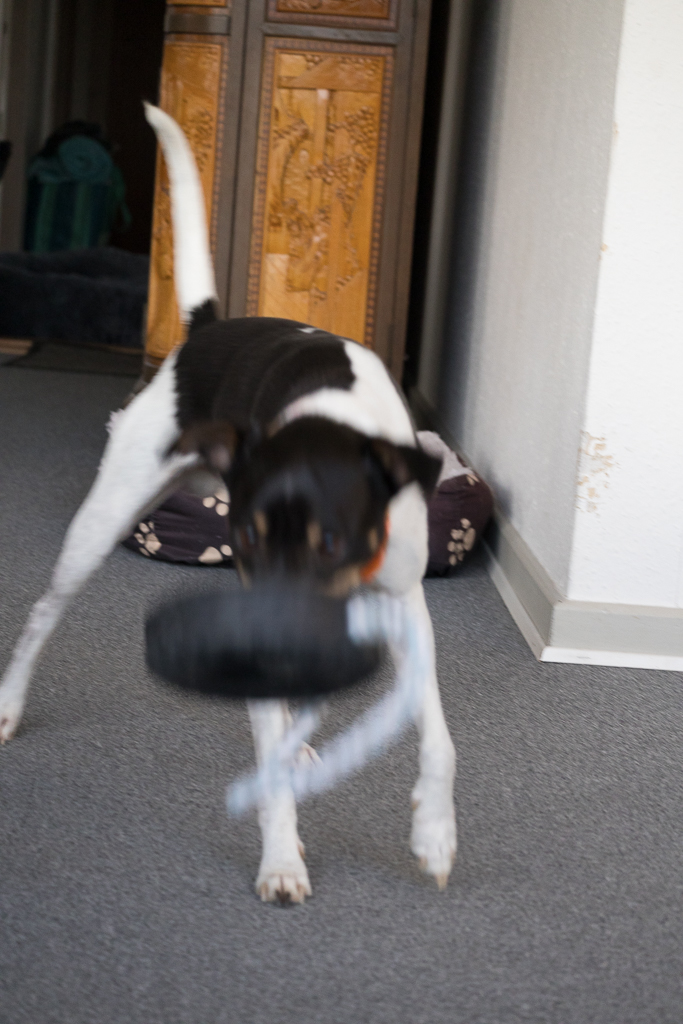Dog: (0, 88, 502, 922)
